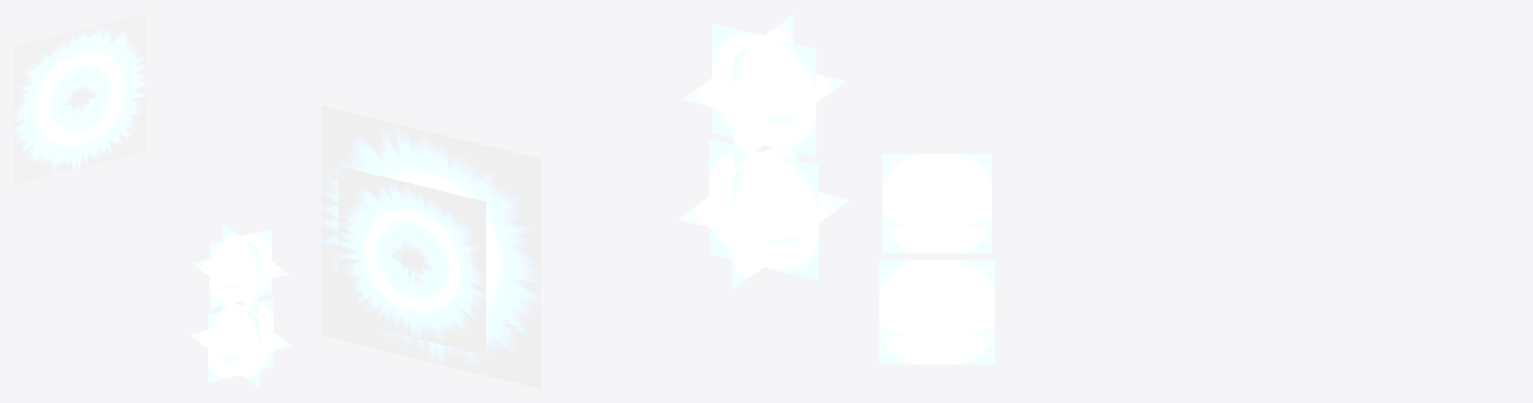
The model's file is sfx_ct0114_attack1.glb.
3 views of the same model, side by side, from view 1: azimuth 30°, elevation 25°; view 2: azimuth 150°, elevation 25°; view 3: azimuth 270°, elevation 25° (orthographic). The views are drawn at different scales.
Visible parts, largest first — view 1: sfx_ct0114_attack1_obj4, sfx_ct0114_attack1_obj1, sfx_ct0114_attack1_obj2; view 2: sfx_ct0114_attack1_obj4, sfx_ct0114_attack1_obj3, sfx_ct0114_attack1_obj1, sfx_ct0114_attack1_obj2; view 3: sfx_ct0114_attack1_obj1, sfx_ct0114_attack1_obj2.
Boxes of the visible parts, x1,y1,x2,y2 form: sfx_ct0114_attack1_obj4: (14, 14, 145, 183); sfx_ct0114_attack1_obj1: (189, 298, 292, 388); sfx_ct0114_attack1_obj2: (192, 223, 289, 314); sfx_ct0114_attack1_obj4: (321, 105, 540, 388); sfx_ct0114_attack1_obj3: (338, 166, 485, 355); sfx_ct0114_attack1_obj1: (678, 139, 849, 290); sfx_ct0114_attack1_obj2: (682, 14, 845, 166); sfx_ct0114_attack1_obj1: (879, 259, 994, 364); sfx_ct0114_attack1_obj2: (882, 154, 991, 253).
Size of the model in its own units: 1 by 1.51 by 2.77.
2 materials, 2 textured.
